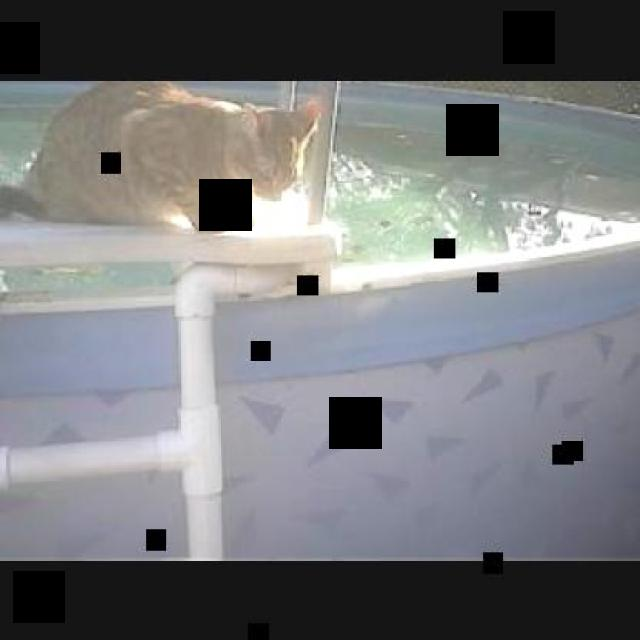unauthorized: (0, 78, 323, 234)
